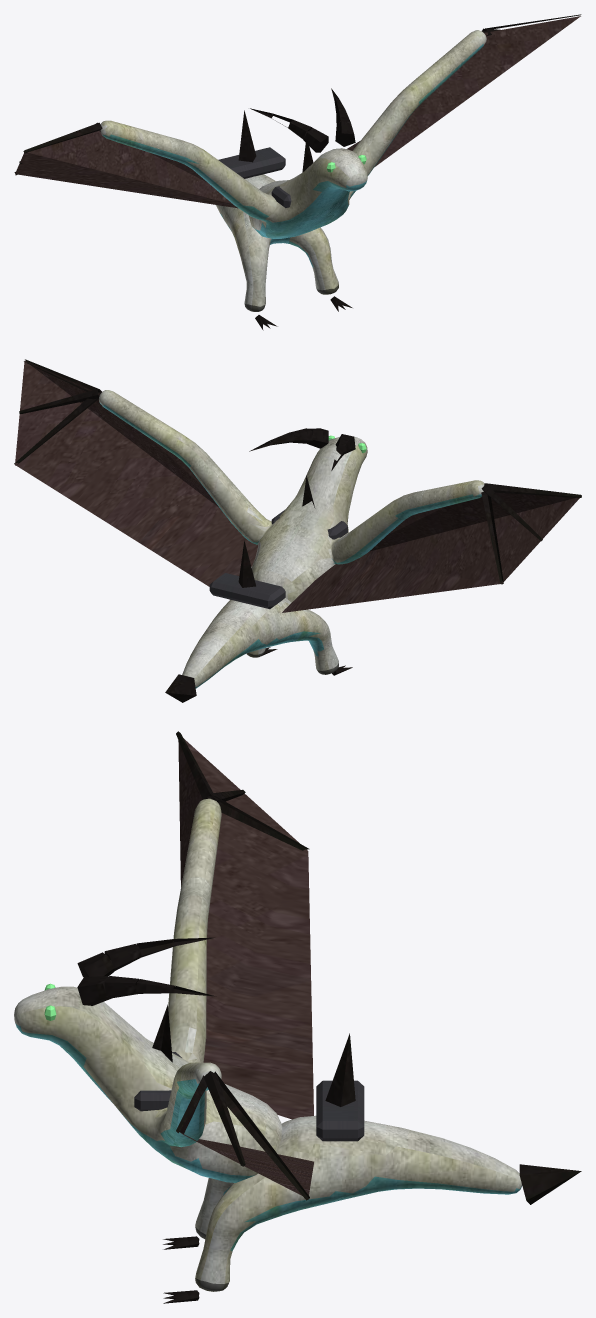
File: mon_sp_vault_queen.glb
The picture shows the model from 3 angles, top to bottom: view 1: azimuth 30°, elevation 25°; view 2: azimuth 150°, elevation 25°; view 3: azimuth 270°, elevation 25°; orthographic projection. The views are drawn at different scales.
Visible parts, largest first — view 1: mon_sp_vault_queen; view 2: mon_sp_vault_queen; view 3: mon_sp_vault_queen.
Part boxes in pixels (x1=…): mon_sp_vault_queen: x1=14, y1=14, x2=581, y2=330; mon_sp_vault_queen: x1=14, y1=359, x2=581, y2=702; mon_sp_vault_queen: x1=14, y1=731, x2=581, y2=1303.
Size of the model in its own units: 5.66 by 2.28 by 3.41.
7 materials, 7 textured.
